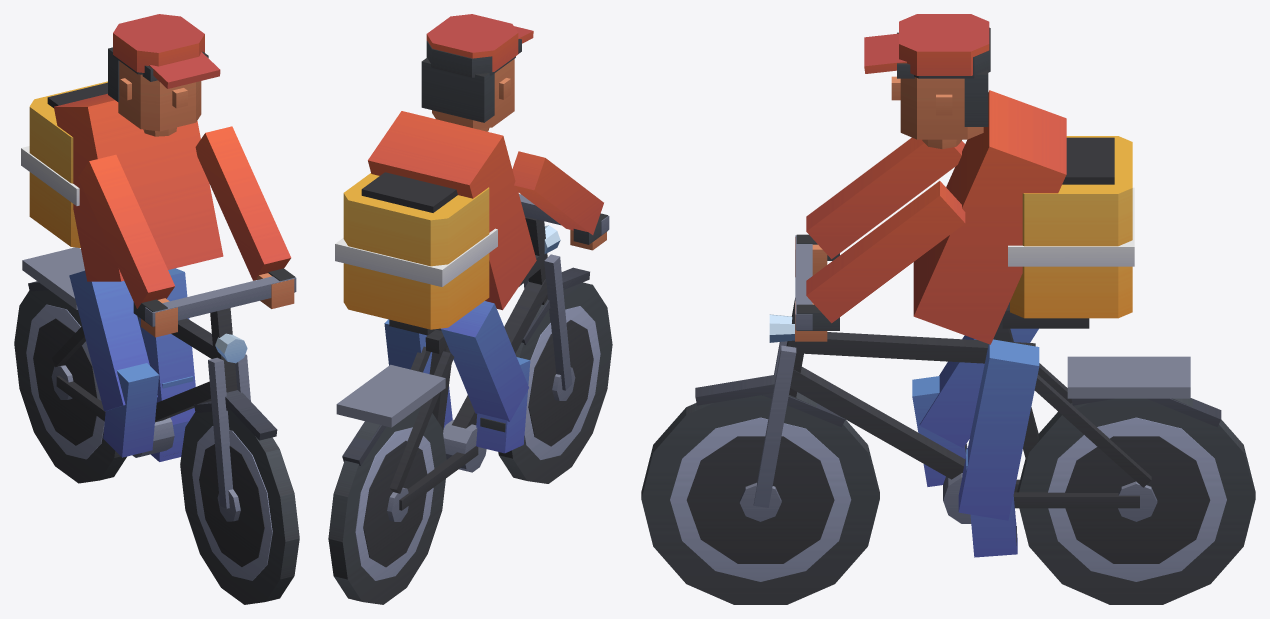
The model's file is cyclist_courier.glb.
3 views of the same model, side by side, from view 1: azimuth 30°, elevation 25°; view 2: azimuth 150°, elevation 25°; view 3: azimuth 270°, elevation 25° (orthographic). The views are drawn at different scales.
Visible parts, largest first — view 1: cyclist_courier; view 2: cyclist_courier; view 3: cyclist_courier.
Boxes of the visible parts, x1,y1,x2,y2 form: cyclist_courier: (14, 14, 299, 604); cyclist_courier: (328, 14, 612, 604); cyclist_courier: (641, 14, 1255, 604).
Bounding box in the file's own units: 0.52 × 1.74 × 1.7.
1 material, 1 textured.
